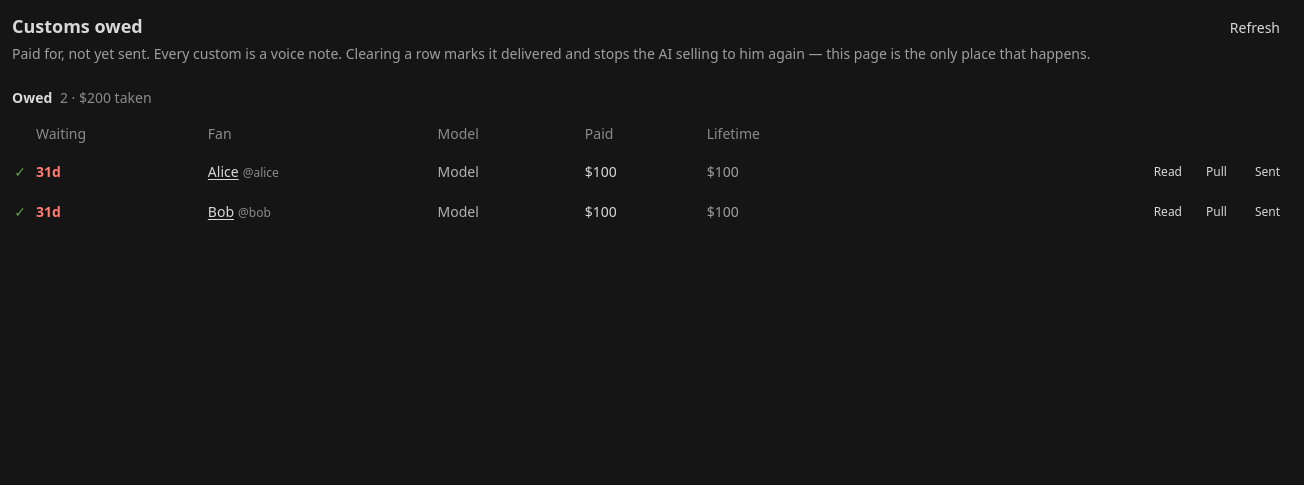
Scenario: CustomsTab pane › Refresh after an owed fan tips again keeps his open pane and says it was read at the older tip
Click the 1st button titled "Read the conversation around this tip".
click(1168, 172)  # box [1146,160,1190,184]
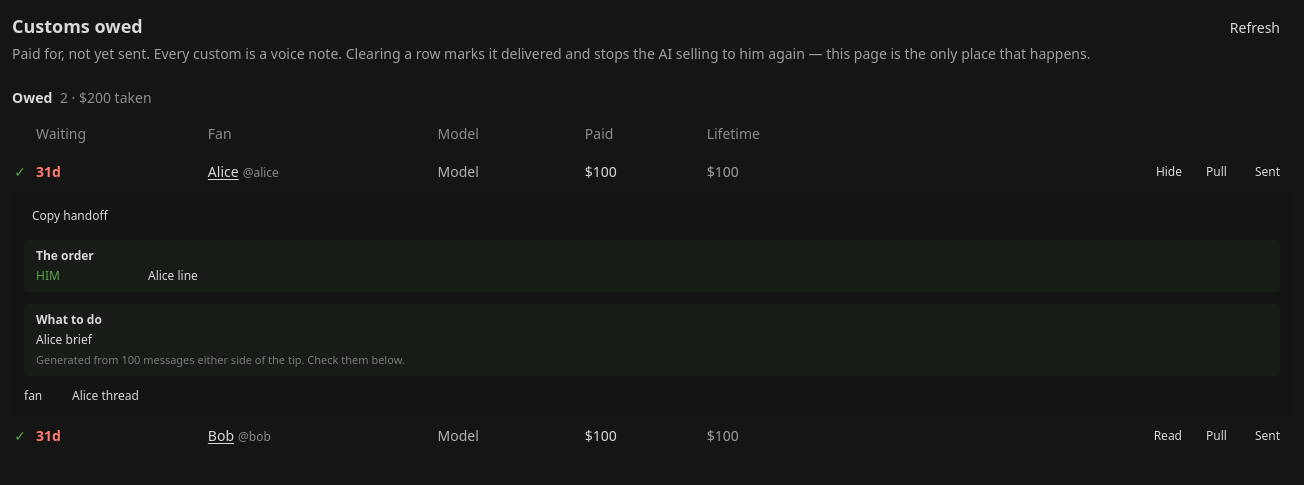
Expected: the text "He tipped again" is not shown
Click the button "Refresh".
click(1255, 28)  # box [1218,12,1292,44]
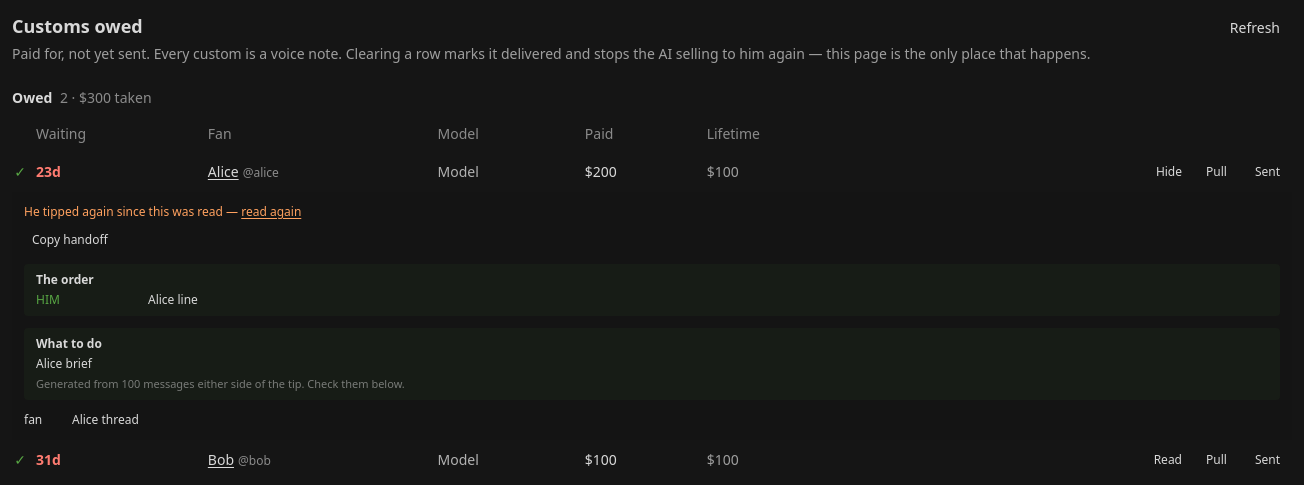
Now the text "Alice brief" is shown, box [36,355,92,372]
Now the button titled "Read the conversation around this tip" reads "Hide", box [1148,160,1190,184]
Now the text "He tipped again since this was read — read again" is shown, box [24,203,301,220]
